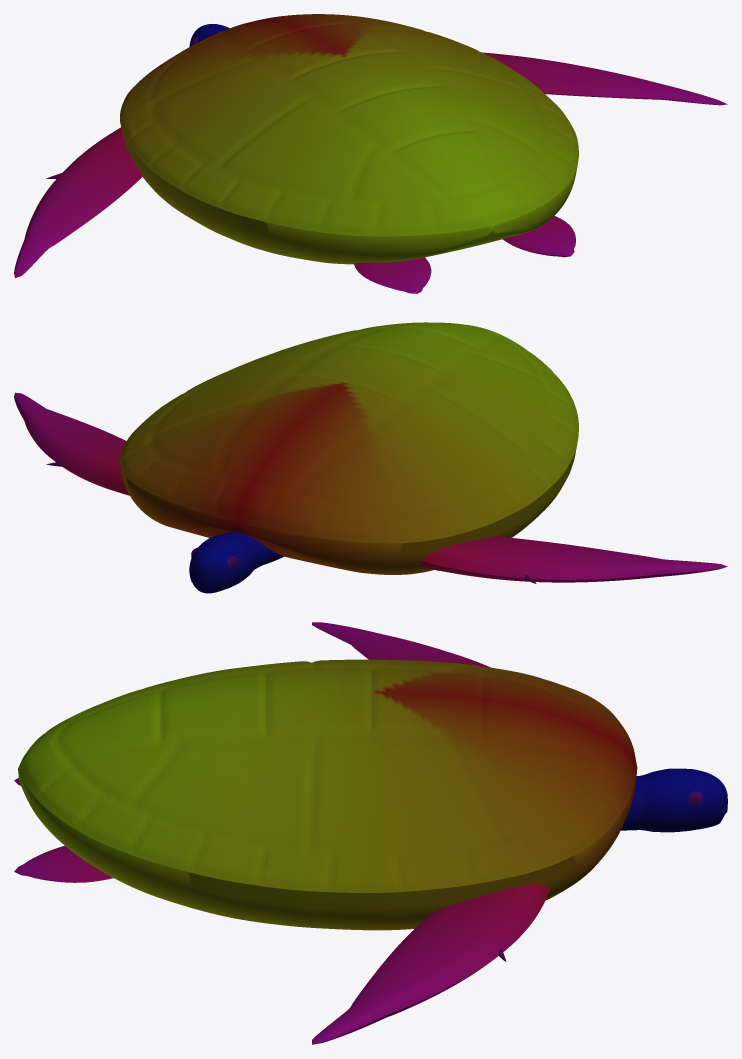
Rendered from sea_turtle_green.glb.
3 views of the same model, one above another, from view 1: azimuth 30°, elevation 25°; view 2: azimuth 150°, elevation 25°; view 3: azimuth 270°, elevation 25° (orthographic). The views are drawn at different scales.
Visible parts, largest first — view 1: sea_turtle_green; view 2: sea_turtle_green; view 3: sea_turtle_green.
Boxes of the visible parts, x1=… form: sea_turtle_green: x1=14, y1=14, x2=727, y2=293; sea_turtle_green: x1=14, y1=322, x2=727, y2=593; sea_turtle_green: x1=14, y1=622, x2=727, y2=1044.
Bounding box in the file's own units: 1.78 × 0.3118 × 1.27.
